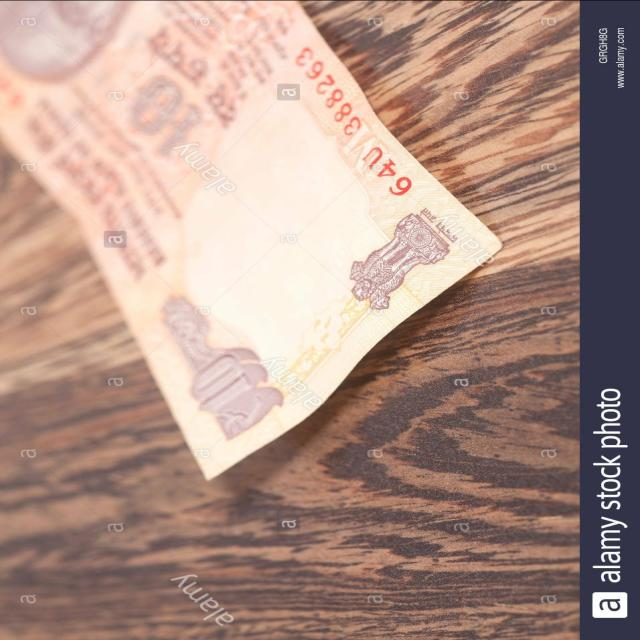10IndianRupees: (0, 0, 503, 481)
